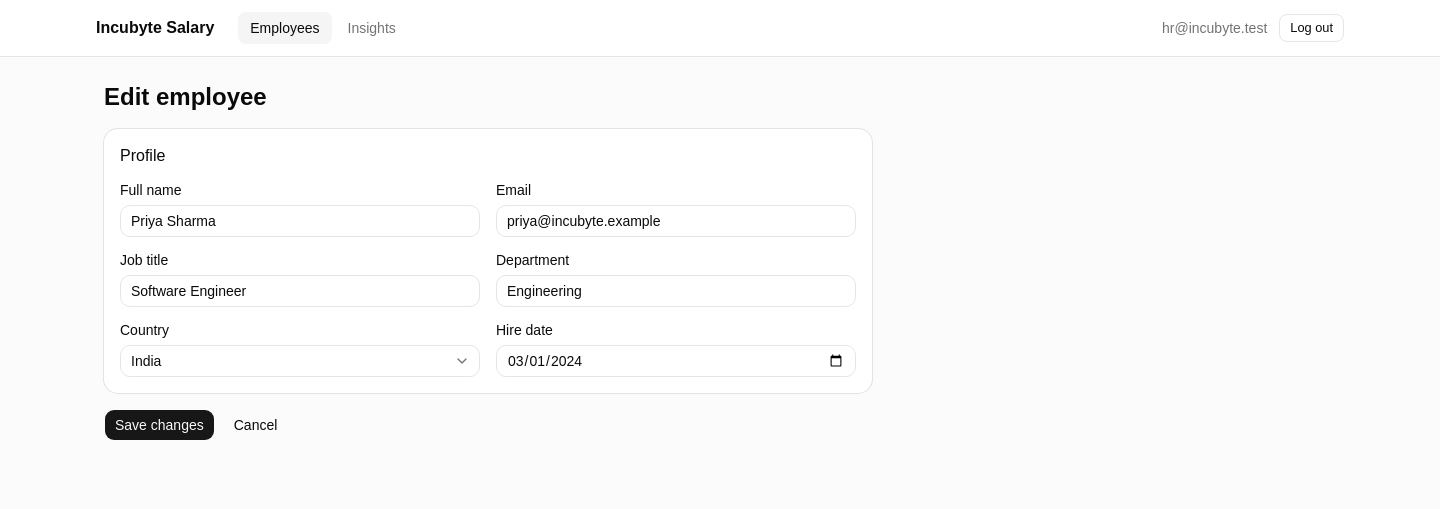
Test: Editing an employee › updates the profile only (pay changes are recorded separately) and returns to the employee
Expected: the dropdown labelled "Country" shows "India", [120,345,480,377]
Replace the text in the field labelled "Job title" with "Senior Software Engineer". click: [300, 291]
box: [120,275,480,307]
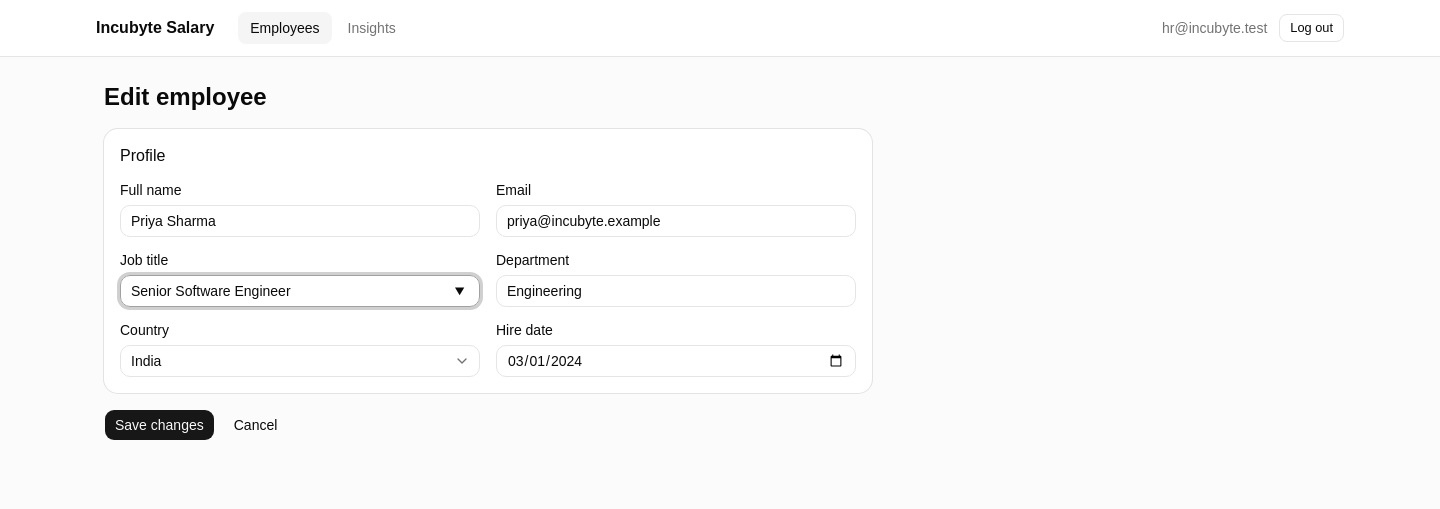
Click the button "Save changes". click: [159, 425]
box: [104,409,215,441]
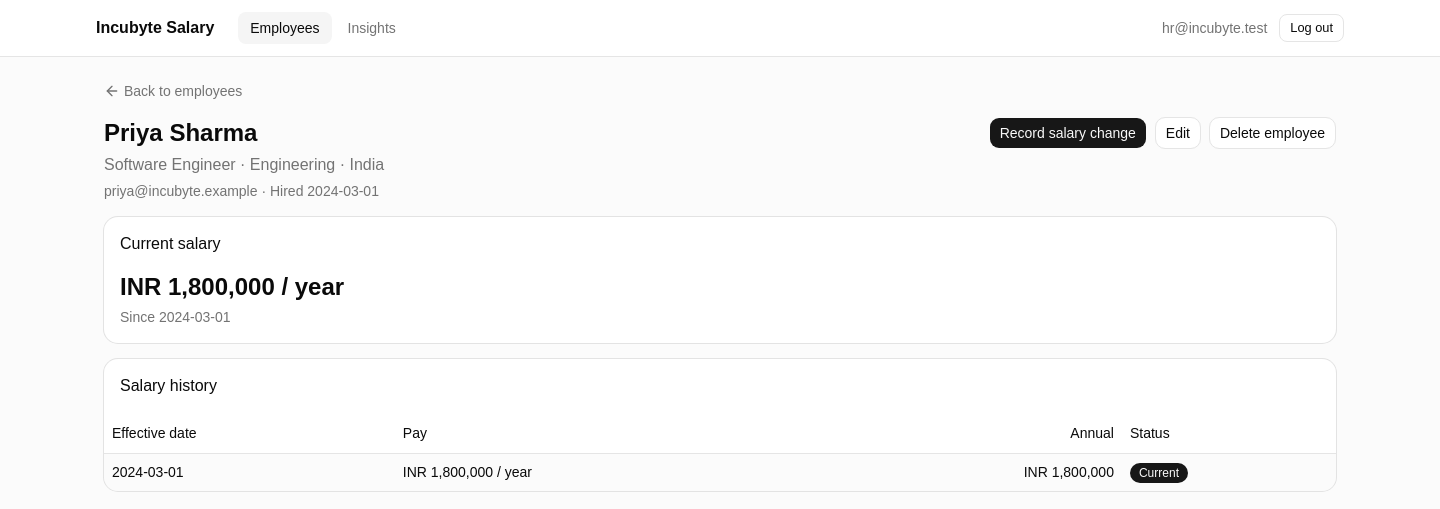
Expected: the text "Senior Software Engineer · Engineering · India" is shown, [104,153,384,177]
